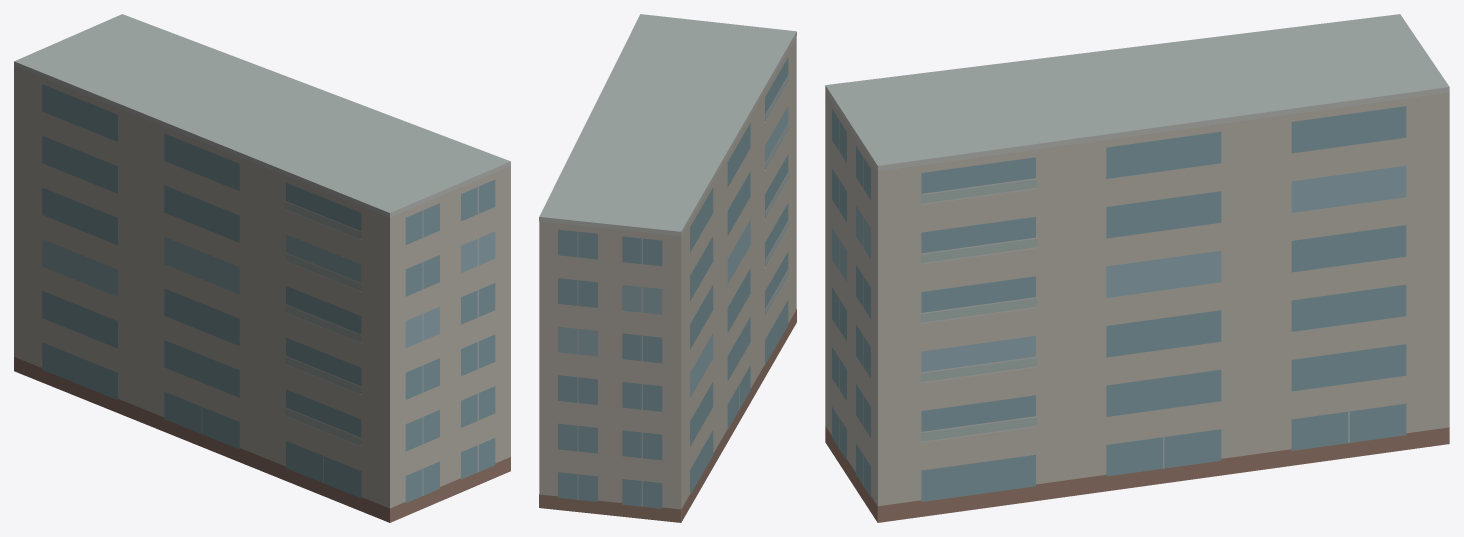
File: survey-upis-32561545.glb
3 renders of one model, left to right at view 1: azimuth 30°, elevation 25°; view 2: azimuth 150°, elevation 25°; view 3: azimuth 270°, elevation 25°, orthographic. The views are drawn at different scales.
Visible parts, largest first — view 1: survey-upis-32561545.tmp; view 2: survey-upis-32561545.tmp; view 3: survey-upis-32561545.tmp.
Part boxes in pixels (box(x1,y1,x2,y2)): survey-upis-32561545.tmp: box(14, 14, 510, 522); survey-upis-32561545.tmp: box(539, 14, 796, 522); survey-upis-32561545.tmp: box(825, 14, 1449, 522).
Size of the model in its own units: 14.79 by 16.2 by 25.69.
